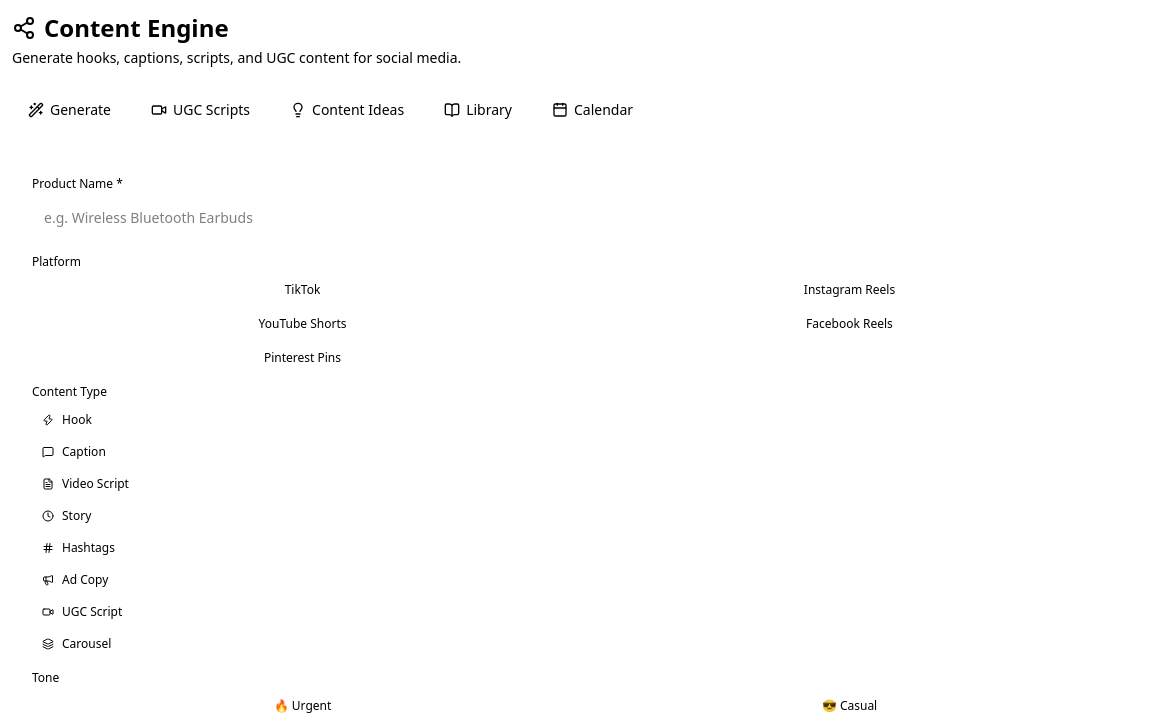
Scenario: SocialContentPage › shows loading state while library is loading
Click the button "Library". click: (478, 110)
box: 428,92 -> 528,128
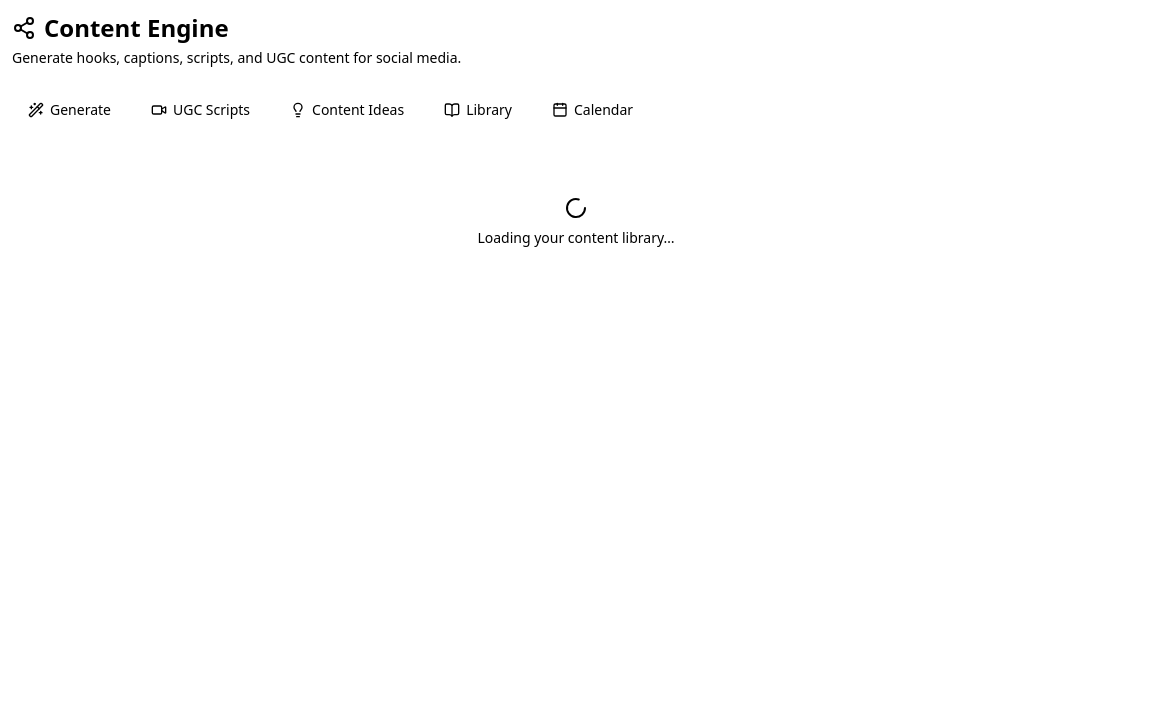
Now the text "Loading your content library…" is shown, box 477,228 -> 675,247
